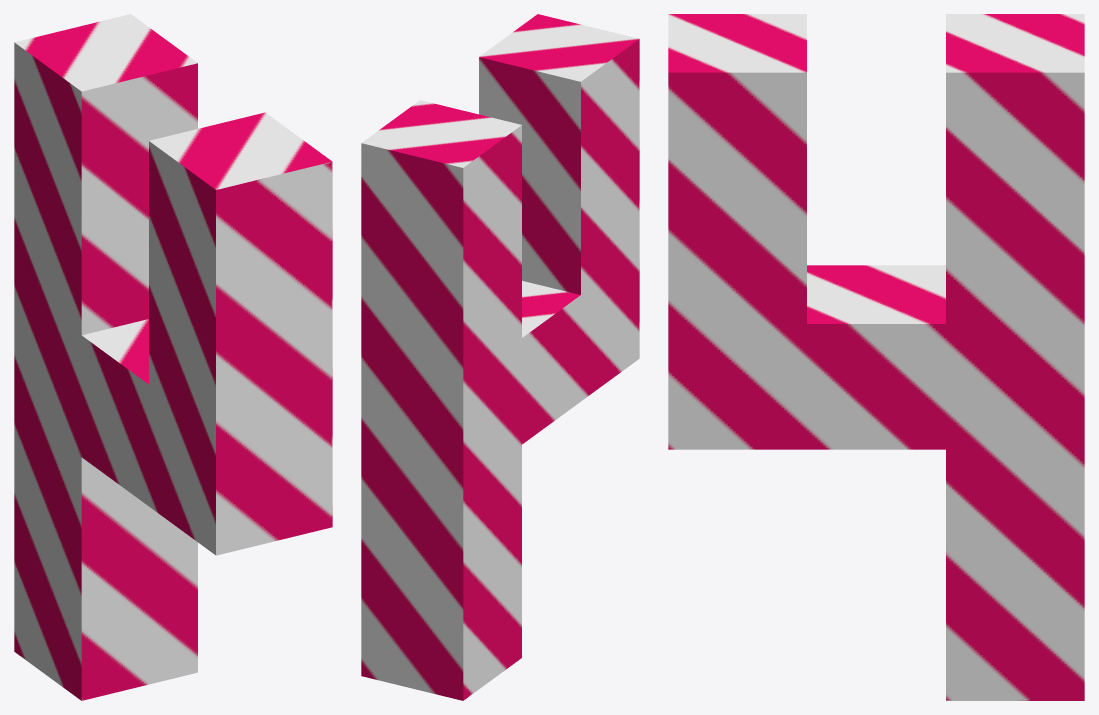
The model's file is Four.fbx.
The picture shows the model from 3 angles, left to right: view 1: azimuth 30°, elevation 25°; view 2: azimuth 150°, elevation 25°; view 3: azimuth 270°, elevation 25°; orthographic projection. The views are drawn at different scales.
Parts seen in each view (by area): view 1: Cube; view 2: Cube; view 3: Cube.
Boxes of the visible parts, x1,y1,x2,y2 form: Cube: [14, 14, 332, 700]; Cube: [361, 14, 639, 700]; Cube: [668, 14, 1084, 700].
Size of the model in its own units: 200 by 1000 by 600.
